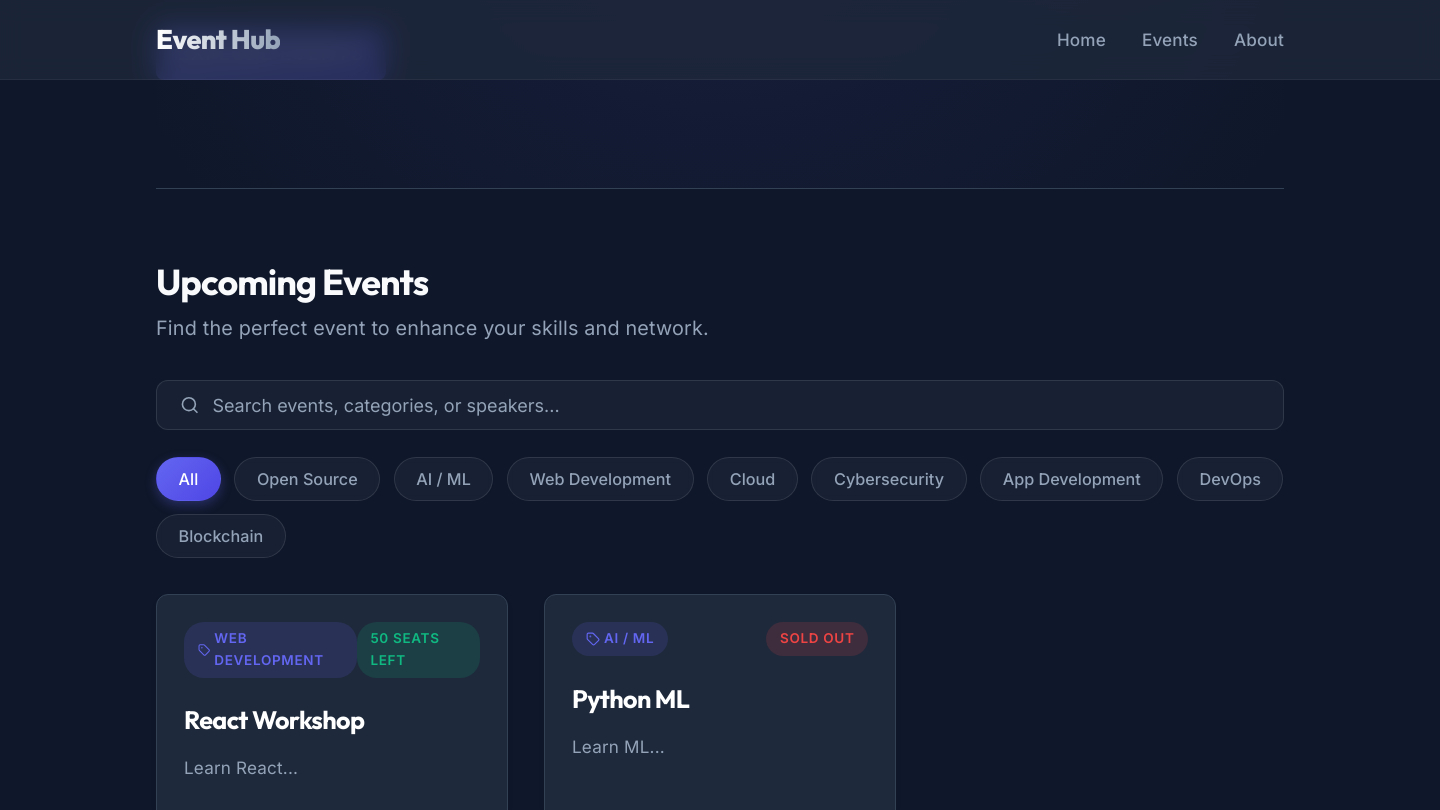
Test case: GDG EventHub Frontend › Home Page › filters events by search
(page scrolled)
Check: the heading "React Workshop" is shown, box [184, 704, 364, 736]
Type "Python" into the field with placeholder "Search events, categories, or speakers..." at (736, 405), box [212, 395, 1260, 416]
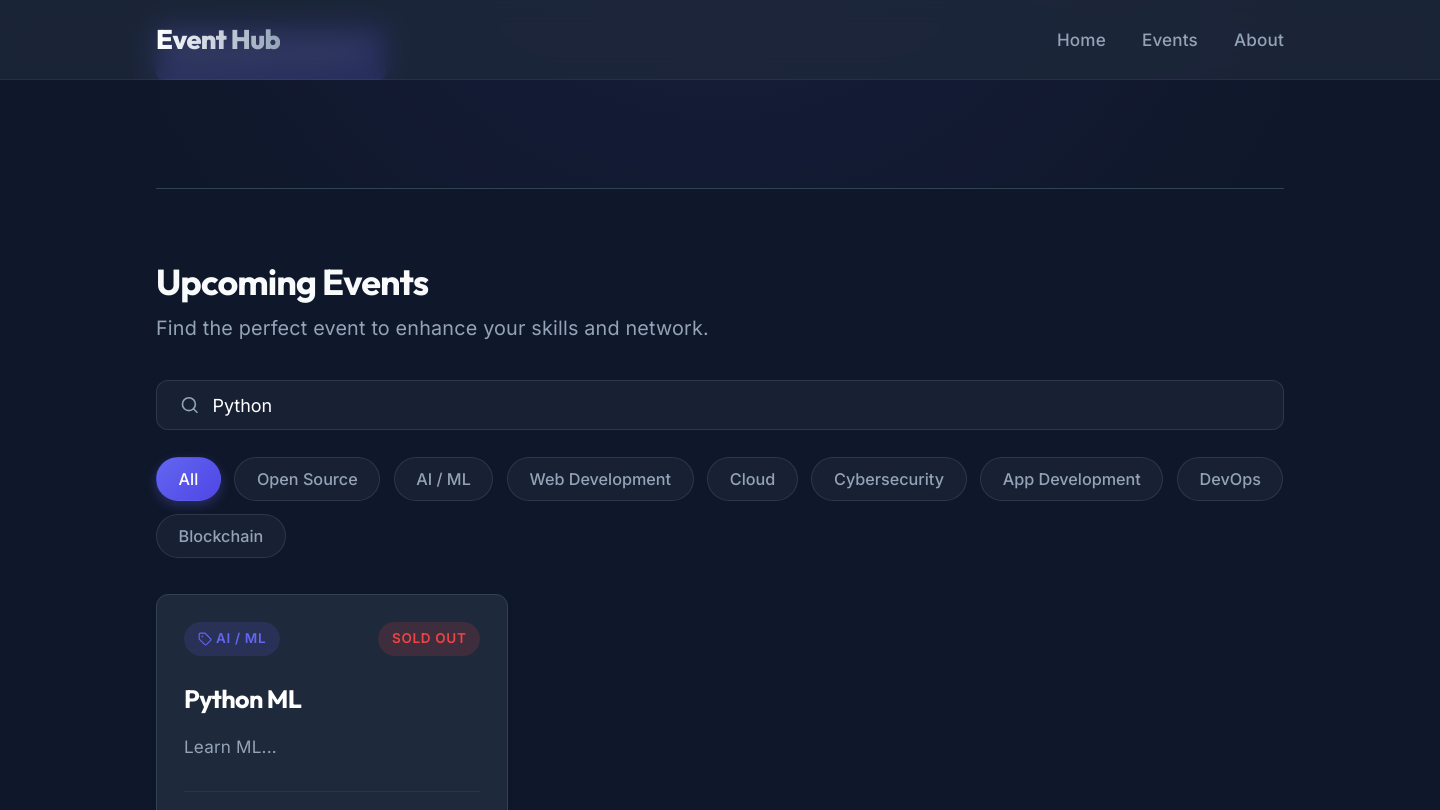
Check: the heading "Python ML" is shown, box [184, 683, 301, 715]
Check: the heading "React Workshop" is gone
